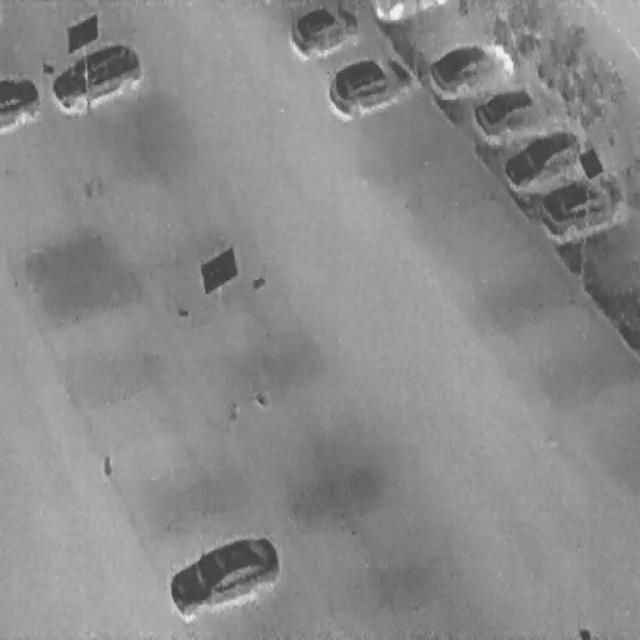Car: (160, 518, 288, 628), (532, 154, 635, 252), (421, 18, 522, 114), (45, 31, 144, 121), (321, 38, 415, 128), (495, 115, 586, 197), (471, 64, 557, 142), (289, 0, 361, 60), (0, 74, 40, 124), (371, 0, 442, 25)
